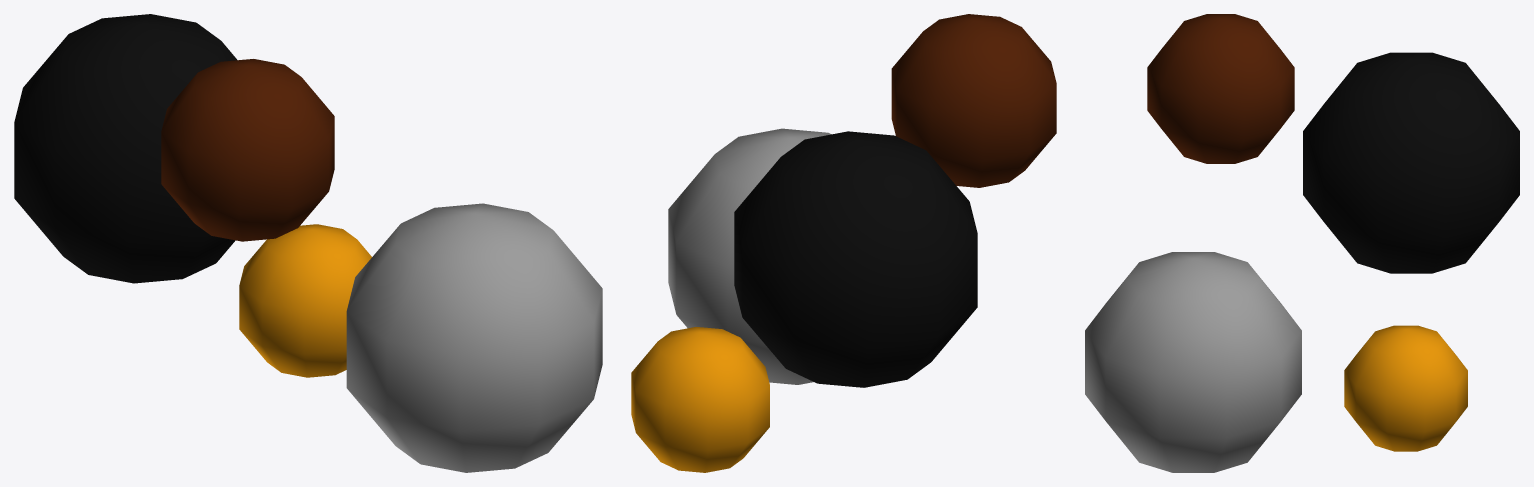
Rendered from powerUp_reload.FBX.
3 views of the same model, side by side, from view 1: azimuth 30°, elevation 25°; view 2: azimuth 150°, elevation 25°; view 3: azimuth 270°, elevation 25° (orthographic). The views are drawn at different scales.
Parts seen in each view (by area): view 1: bullets; view 2: bullets; view 3: bullets.
Boxes of the visible parts, bbox=[...] form: bullets: bbox=[14, 14, 602, 472]; bullets: bbox=[631, 14, 1056, 472]; bullets: bbox=[1085, 14, 1519, 472].
Bounding box in the file's own units: 11.22 × 11.24 × 12.24.
